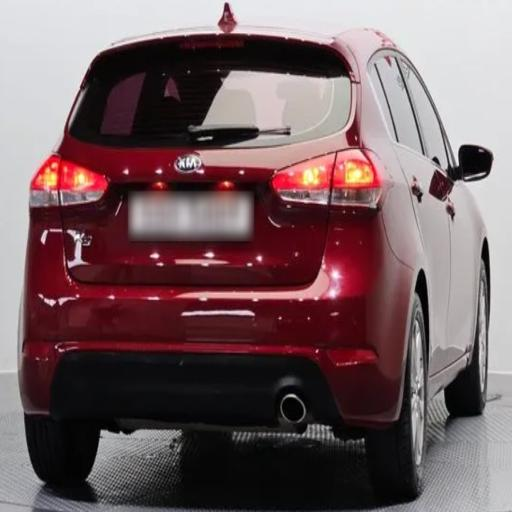scratch: (28, 194, 365, 348)
